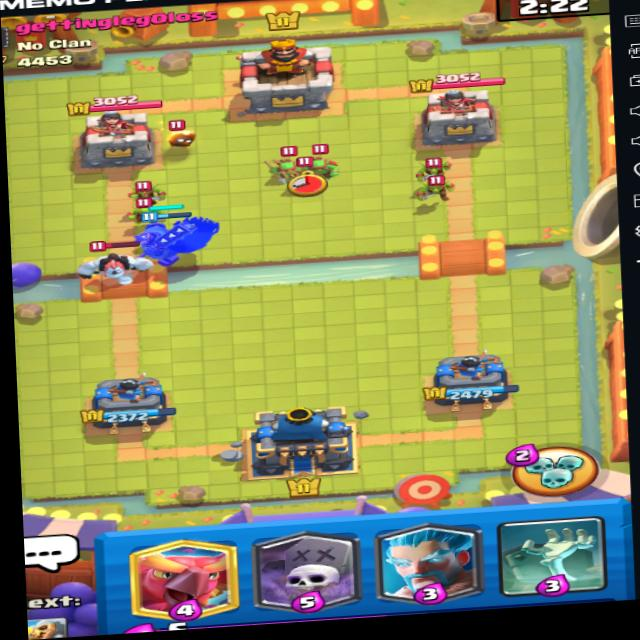Firespirit: (163, 111, 200, 153)
Goblin: (408, 173, 457, 212), (406, 146, 455, 180), (130, 169, 169, 202), (125, 200, 163, 222)
Icegolem: (83, 240, 167, 292)
Speargoblin: (270, 145, 309, 184), (299, 142, 340, 177)
